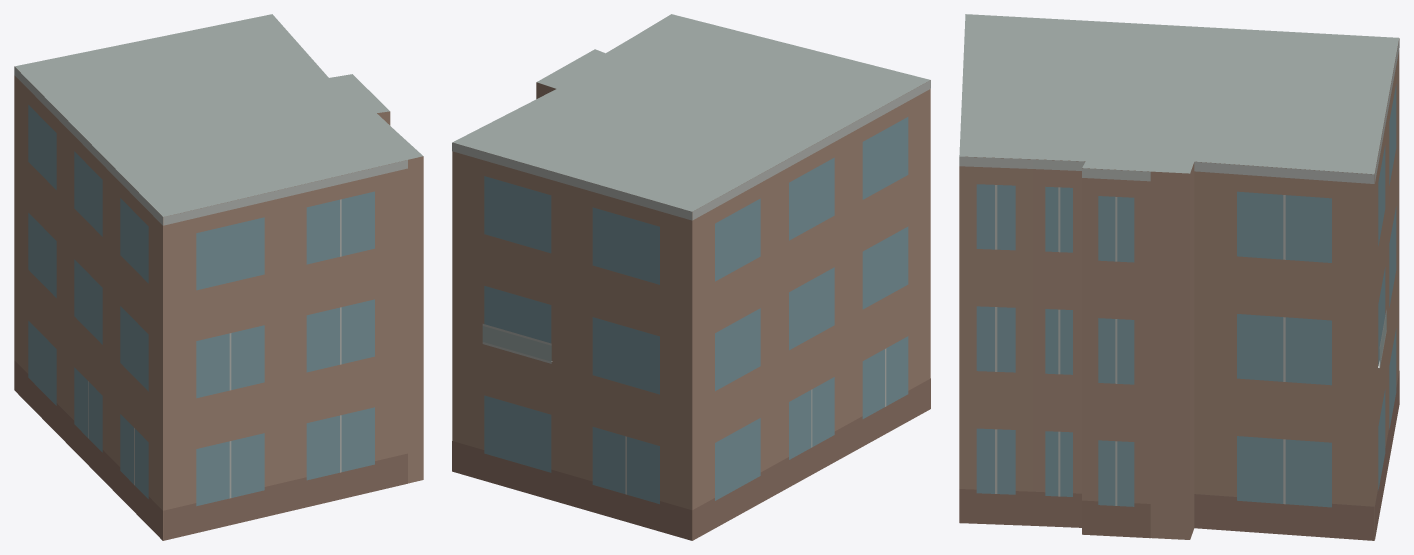
Rendered from survey-upis-32489281.glb.
The picture shows the model from 3 angles, left to right: view 1: azimuth 30°, elevation 25°; view 2: azimuth 150°, elevation 25°; view 3: azimuth 270°, elevation 25°; orthographic projection. The views are drawn at different scales.
Visible parts, largest first — view 1: survey-upis-32489281.tmp; view 2: survey-upis-32489281.tmp; view 3: survey-upis-32489281.tmp.
Boxes of the visible parts, box(x1,y1,x2,y2) form: survey-upis-32489281.tmp: box(14, 14, 423, 540); survey-upis-32489281.tmp: box(452, 14, 930, 540); survey-upis-32489281.tmp: box(959, 14, 1399, 540).
Size of the model in its own units: 8.54 by 9.1 by 9.9.
